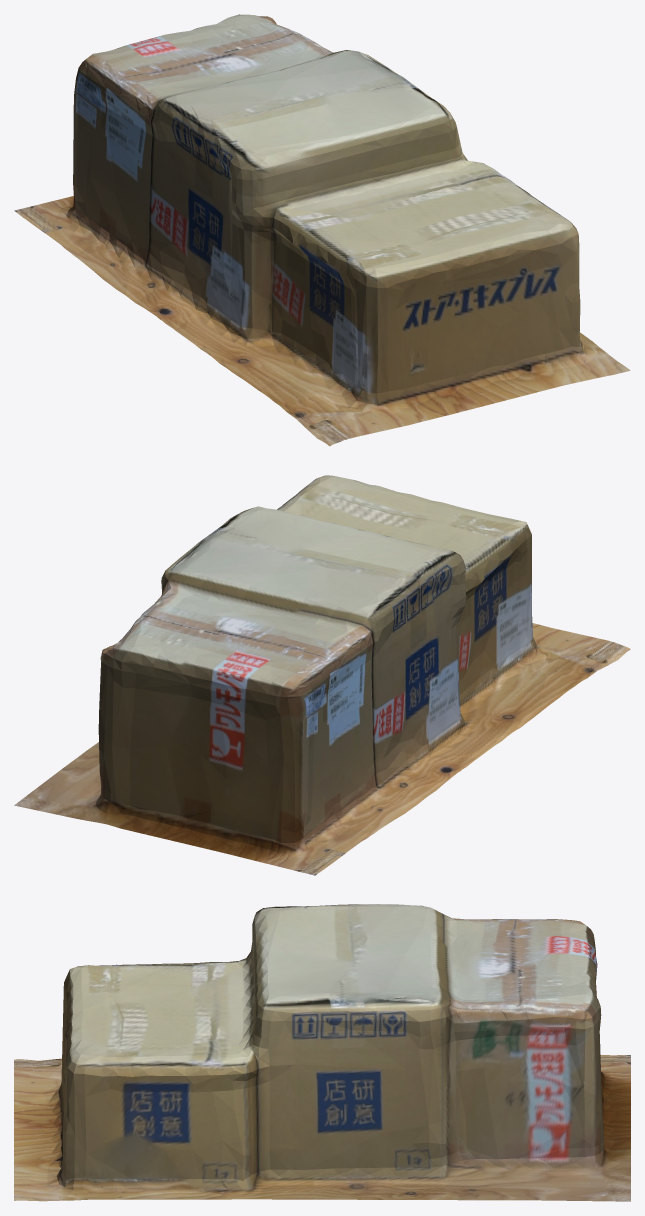
3 views of the same model, one above another, from view 1: azimuth 30°, elevation 25°; view 2: azimuth 150°, elevation 25°; view 3: azimuth 270°, elevation 25° (orthographic). The views are drawn at different scales.
Parts seen in each view (by area): view 1: mesh; view 2: mesh; view 3: mesh.
Part boxes in pixels (x1,y1,x2,y2): mesh: (14, 14, 630, 446); mesh: (14, 475, 630, 875); mesh: (14, 904, 630, 1201).
Bounding box in the file's own units: 0.5367 × 0.3166 × 0.9747.
Materials: 1 (1 with a texture image).
